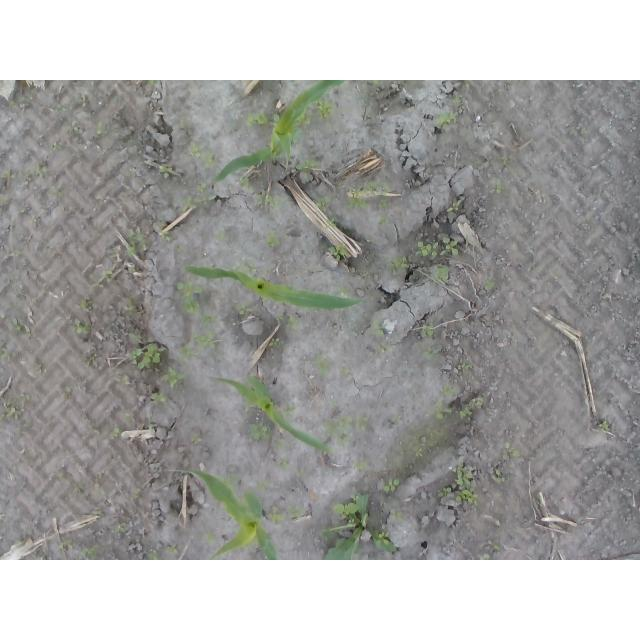Maize: (214, 80, 346, 181), (170, 468, 281, 561), (206, 374, 334, 454), (184, 264, 367, 313)
Weeds: (317, 492, 397, 560), (344, 179, 392, 210), (124, 343, 168, 370), (0, 394, 32, 429), (177, 278, 204, 315), (323, 416, 352, 448), (124, 226, 148, 258), (255, 188, 282, 213), (233, 259, 259, 284), (451, 458, 474, 486), (293, 159, 319, 181), (195, 182, 218, 206), (214, 471, 238, 493), (314, 97, 336, 120), (154, 218, 174, 243), (88, 268, 113, 288), (193, 330, 218, 350), (248, 420, 272, 440), (454, 487, 479, 506), (162, 367, 186, 386), (413, 241, 439, 258), (435, 111, 457, 131), (429, 401, 452, 420), (389, 257, 411, 276), (70, 317, 92, 335), (245, 111, 269, 127), (292, 107, 312, 126), (440, 237, 460, 256), (266, 505, 285, 524), (503, 443, 522, 462), (10, 317, 32, 333), (77, 544, 99, 560), (327, 245, 349, 261), (188, 139, 206, 158), (123, 296, 142, 314), (369, 319, 388, 337), (311, 356, 329, 375), (6, 95, 30, 109), (431, 265, 449, 283), (178, 194, 197, 211), (177, 343, 194, 362), (201, 152, 219, 169), (316, 196, 333, 213), (354, 413, 369, 432), (234, 302, 254, 316), (237, 177, 255, 192), (266, 231, 281, 249), (285, 505, 303, 520), (352, 456, 368, 472), (35, 162, 50, 179), (285, 315, 302, 330), (383, 478, 401, 492), (0, 169, 16, 184), (488, 181, 504, 196), (158, 163, 175, 177), (390, 508, 407, 522), (436, 485, 453, 499), (201, 314, 219, 327), (150, 391, 166, 405), (108, 425, 124, 439), (442, 383, 458, 397), (469, 396, 486, 409), (372, 341, 392, 352), (84, 353, 99, 367), (420, 324, 434, 339), (95, 121, 109, 135), (59, 538, 74, 551), (255, 479, 270, 492), (459, 406, 474, 419), (202, 534, 218, 546), (113, 375, 132, 385), (146, 412, 155, 433), (423, 347, 440, 358), (324, 216, 337, 230), (492, 469, 505, 483), (277, 458, 292, 470), (447, 200, 462, 212), (79, 299, 95, 310), (68, 120, 81, 133), (49, 186, 63, 198), (337, 285, 351, 297), (243, 396, 253, 412), (270, 114, 282, 127), (274, 438, 286, 451), (53, 103, 67, 114), (281, 405, 295, 416), (485, 277, 496, 291), (215, 231, 230, 241), (73, 483, 88, 493), (412, 446, 424, 458), (94, 483, 107, 494), (166, 544, 179, 555), (598, 421, 610, 432), (148, 549, 160, 560), (488, 539, 501, 549), (62, 387, 72, 400), (1, 347, 11, 360), (115, 523, 128, 533), (340, 366, 353, 376), (268, 337, 281, 347), (129, 334, 143, 343), (77, 94, 88, 105), (295, 467, 306, 478), (476, 552, 491, 560), (123, 412, 133, 424), (50, 141, 62, 151), (88, 424, 100, 434), (378, 217, 390, 227), (10, 249, 22, 258), (460, 363, 472, 372), (364, 235, 376, 244), (501, 154, 510, 166), (452, 95, 462, 105), (21, 169, 32, 178), (581, 128, 591, 137), (134, 488, 142, 499), (92, 509, 104, 516), (394, 413, 402, 423), (330, 400, 339, 408), (191, 437, 203, 443), (463, 80, 472, 88), (275, 314, 283, 323), (57, 472, 67, 479), (147, 81, 157, 88), (365, 80, 379, 85), (30, 214, 38, 222), (35, 363, 42, 372), (412, 393, 421, 400), (110, 253, 119, 260), (34, 556, 46, 561), (176, 246, 184, 253), (332, 125, 340, 132), (15, 539, 22, 545)
